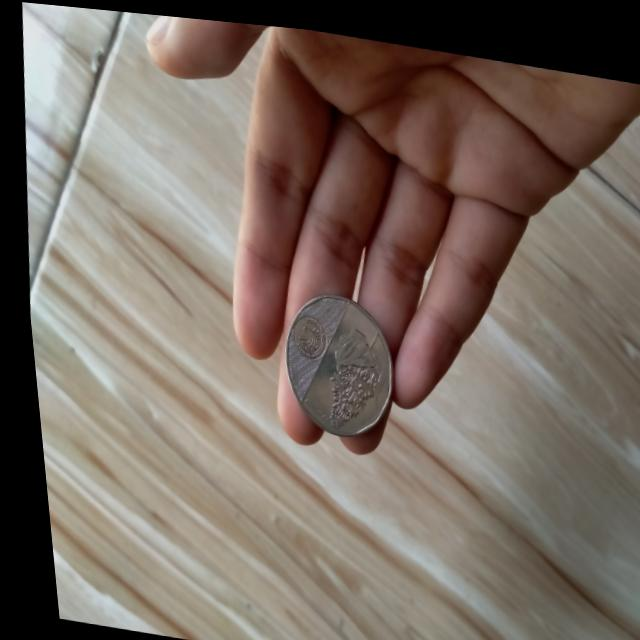10_New_Back: (305, 308, 398, 440)
